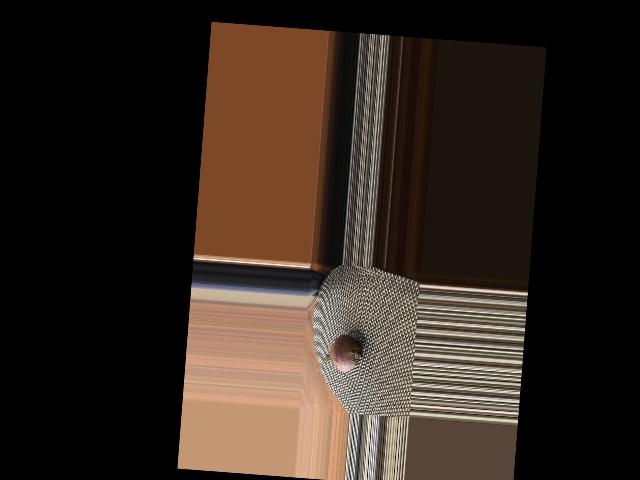beet: (317, 327, 366, 379)
